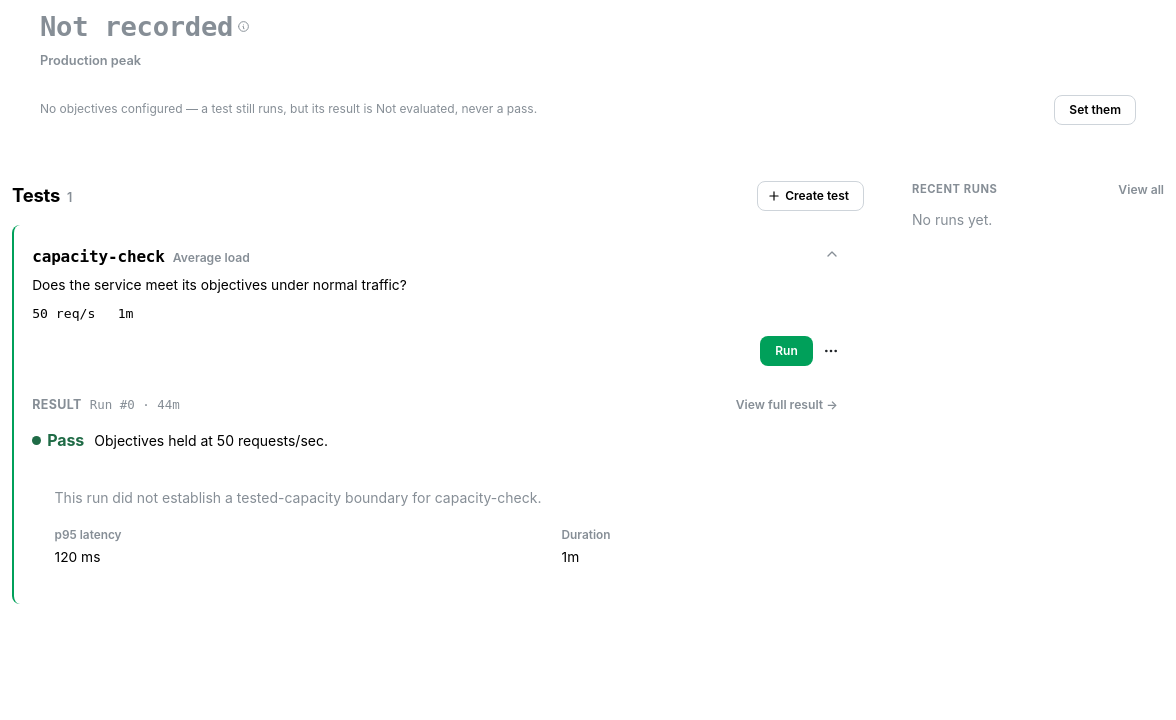
the overview page › collapses the expanded test when its own expand control is clicked again
Click the button named "Collapse capacity-check's result".
click(832, 254)  # box left=819, top=241, right=845, bottom=267
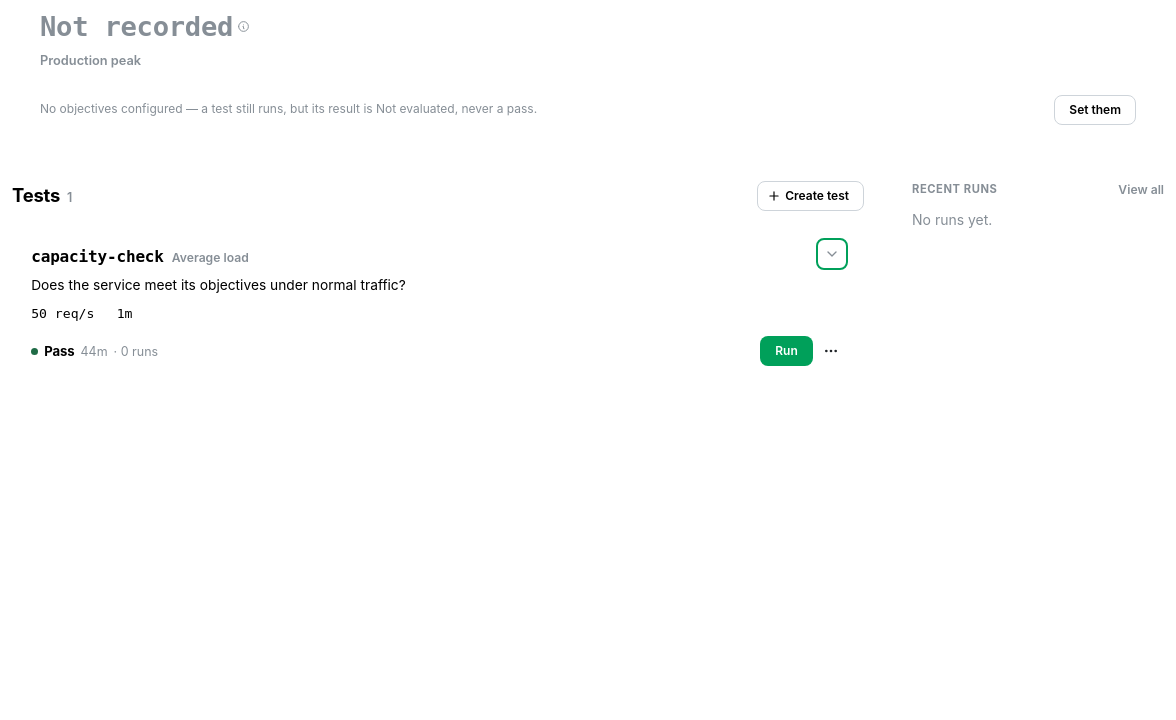
Now the button named "Expand capacity-check's result" is shown, box left=819, top=241, right=845, bottom=267
